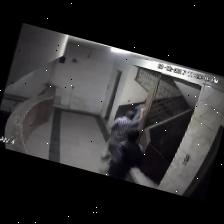person: (102, 108, 145, 159), (109, 129, 142, 179)
